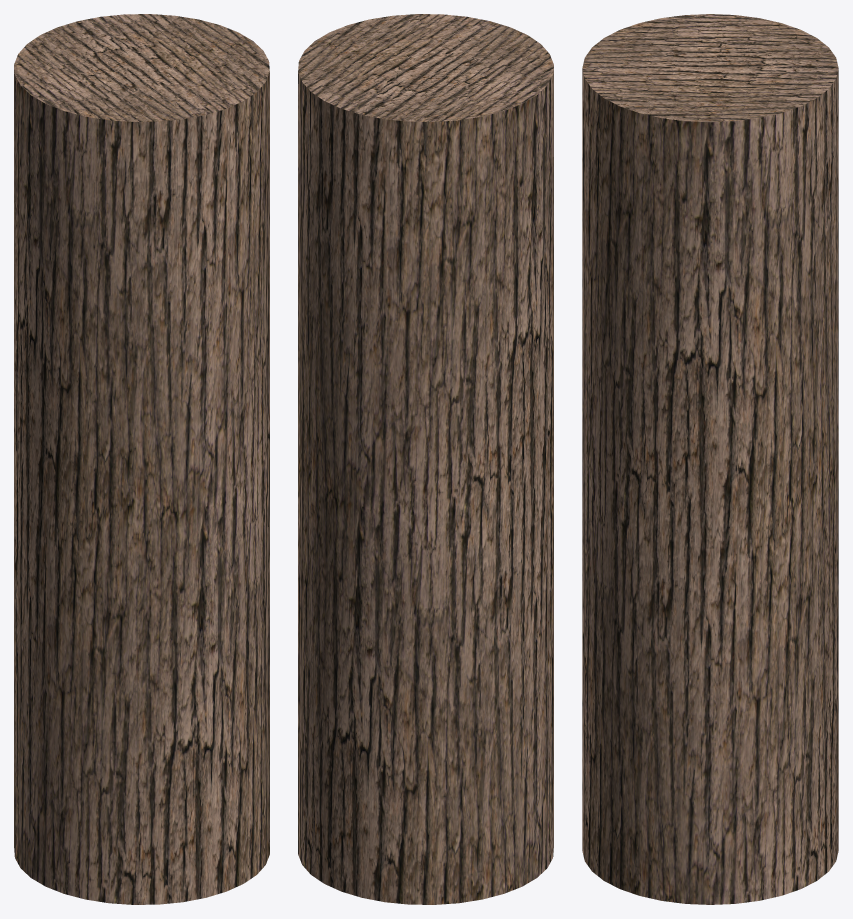
File: SimplePillar-log.glb
The picture shows the model from 3 angles, left to right: view 1: azimuth 30°, elevation 25°; view 2: azimuth 150°, elevation 25°; view 3: azimuth 270°, elevation 25°; orthographic projection.
Visible parts, largest first — view 1: Pillar; view 2: Pillar; view 3: Pillar.
Boxes of the visible parts, box(x1,y1,x2,y2) form: Pillar: box(14, 14, 269, 904); Pillar: box(298, 14, 553, 904); Pillar: box(582, 14, 838, 904).
Size of the model in its own units: 0.8903 by 3 by 0.8903.
Materials: 1 (1 with a texture image).
